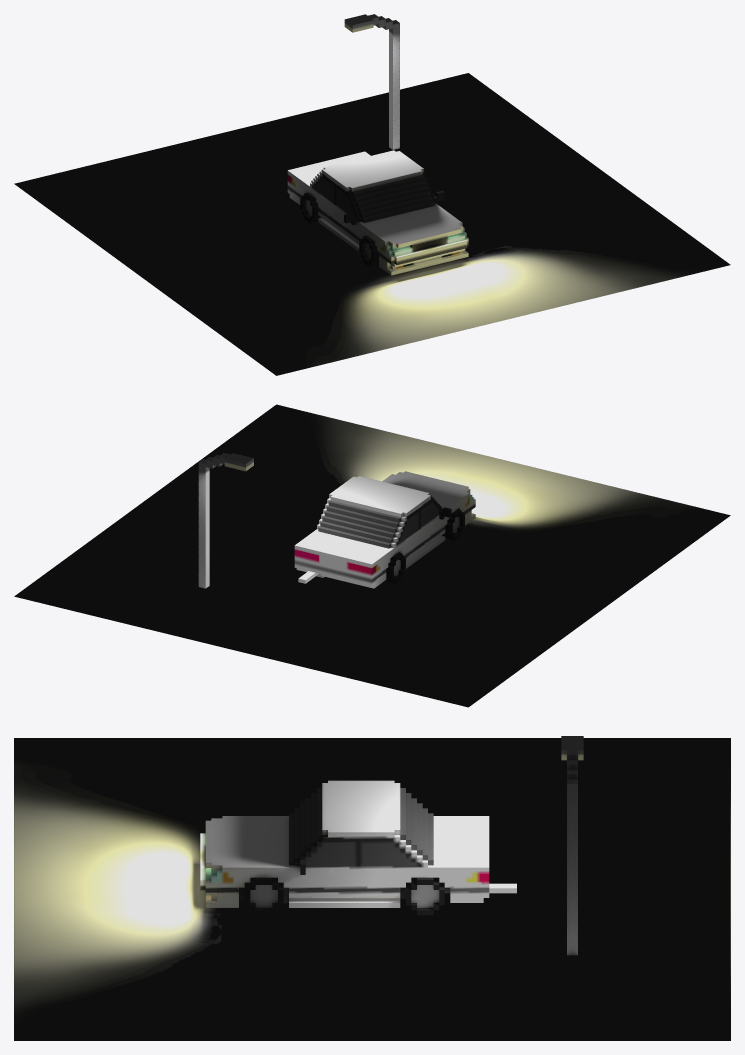
The model's file is mark2-baked-transparent.glb.
The picture shows the model from 3 angles, top to bottom: view 1: azimuth 30°, elevation 25°; view 2: azimuth 150°, elevation 25°; view 3: azimuth 270°, elevation 25°; orthographic projection. The views are drawn at different scales.
Visible parts, largest first — view 1: Plane, mark2; view 2: Plane, mark2; view 3: Plane, mark2.
Boxes of the visible parts, left/top/right/bottom form: Plane: left=14, top=73, right=730, bottom=375; mark2: left=287, top=14, right=468, bottom=275; Plane: left=14, top=404, right=730, bottom=707; mark2: left=198, top=453, right=475, bottom=588; Plane: left=14, top=738, right=730, bottom=1040; mark2: left=200, top=736, right=583, bottom=955.
Size of the model in its own units: 12.9 by 3.7 by 12.9.
2 materials, 2 textured.
